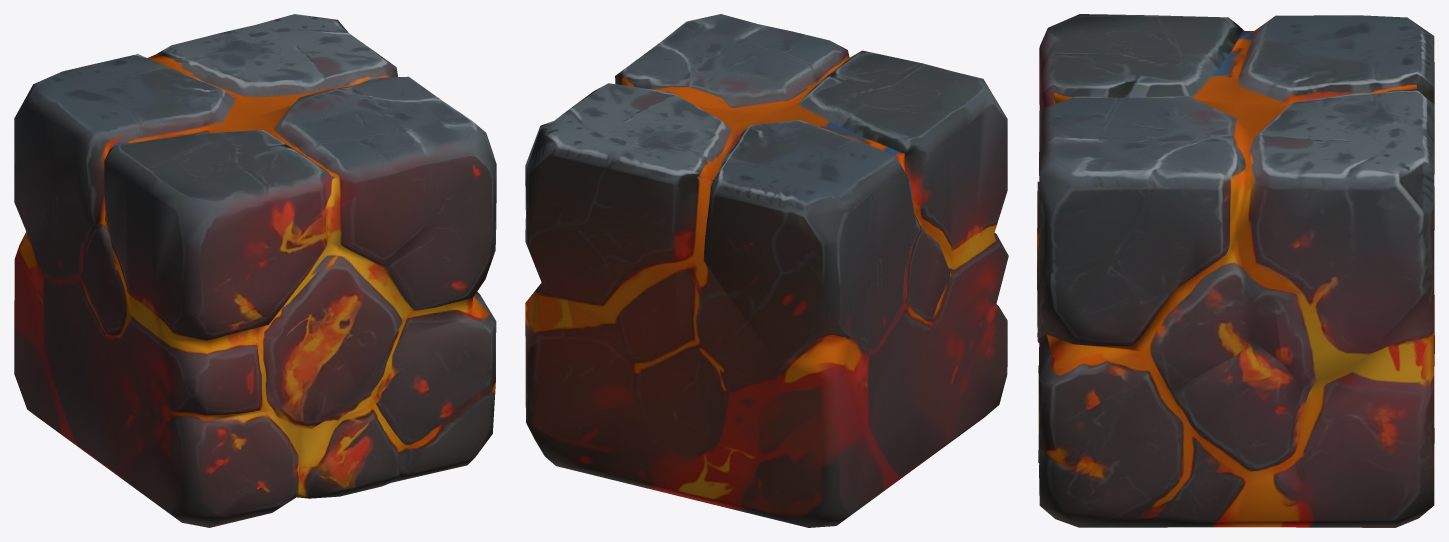
The picture shows the model from 3 angles, left to right: view 1: azimuth 30°, elevation 25°; view 2: azimuth 150°, elevation 25°; view 3: azimuth 270°, elevation 25°; orthographic projection. The views are drawn at different scales.
Parts seen in each view (by area): view 1: tripo_node_0a495b97; view 2: tripo_node_0a495b97; view 3: tripo_node_0a495b97.
Part boxes in pixels (x1,y1,x2,y2): tripo_node_0a495b97: (14, 14, 496, 527); tripo_node_0a495b97: (525, 14, 1008, 527); tripo_node_0a495b97: (1037, 14, 1434, 527).
Size of the model in its own units: 0.9904 by 0.9937 by 0.9953.
1 material, 1 textured.
